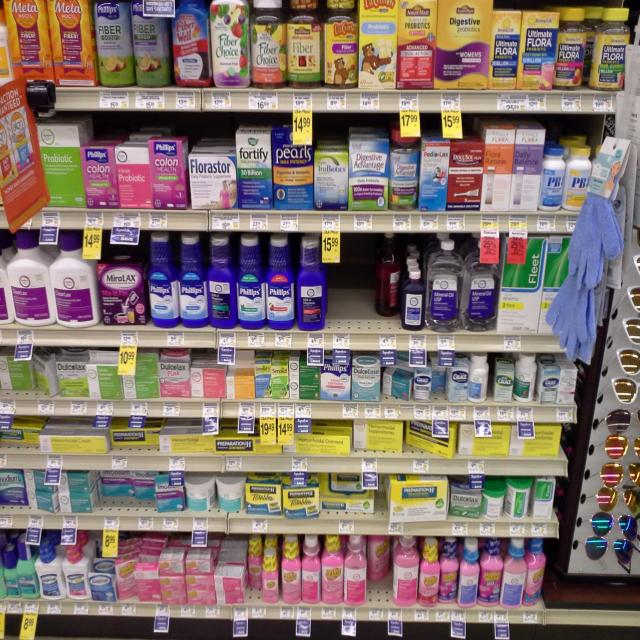void: (323, 240, 352, 350), (353, 237, 379, 352)
